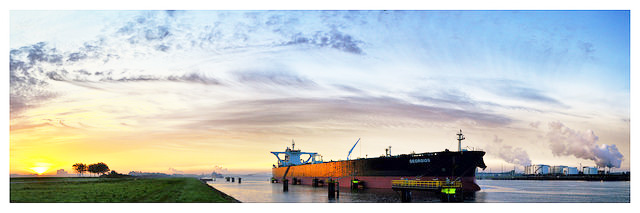tanker: (270, 127, 487, 195)
